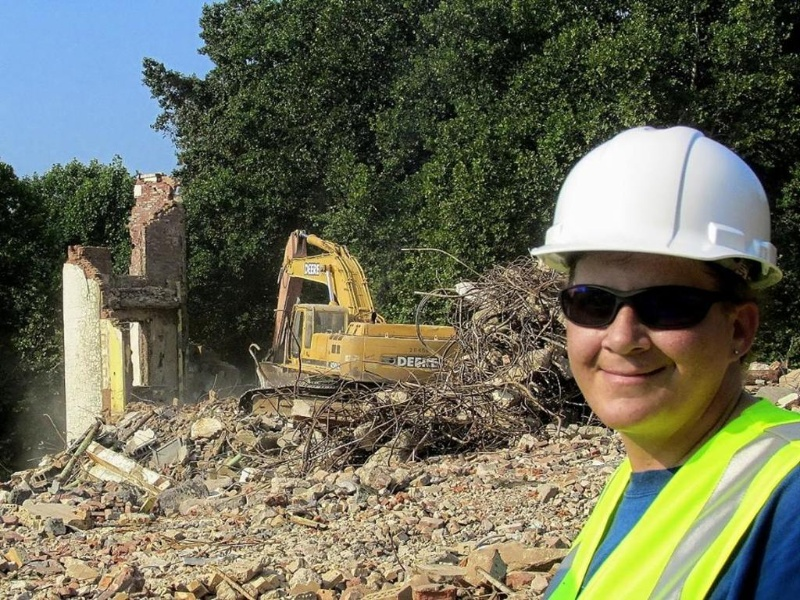Baret: (531, 124, 780, 280)
